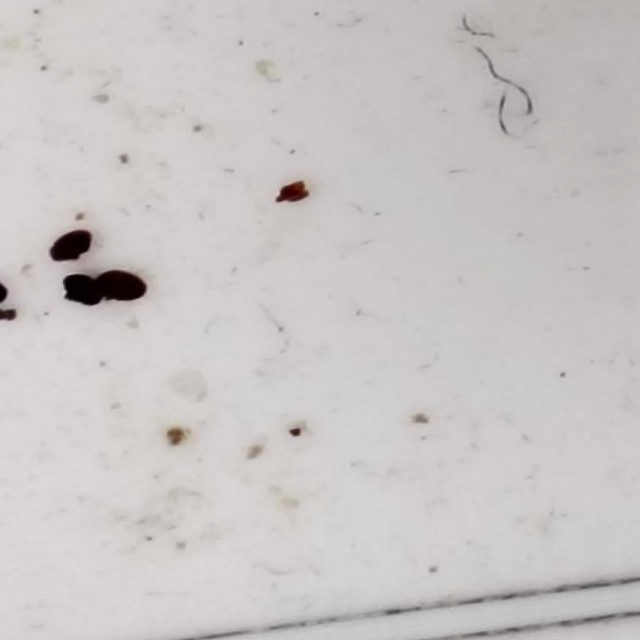varroa: (92, 268, 149, 308), (56, 271, 106, 315), (46, 224, 92, 265)
